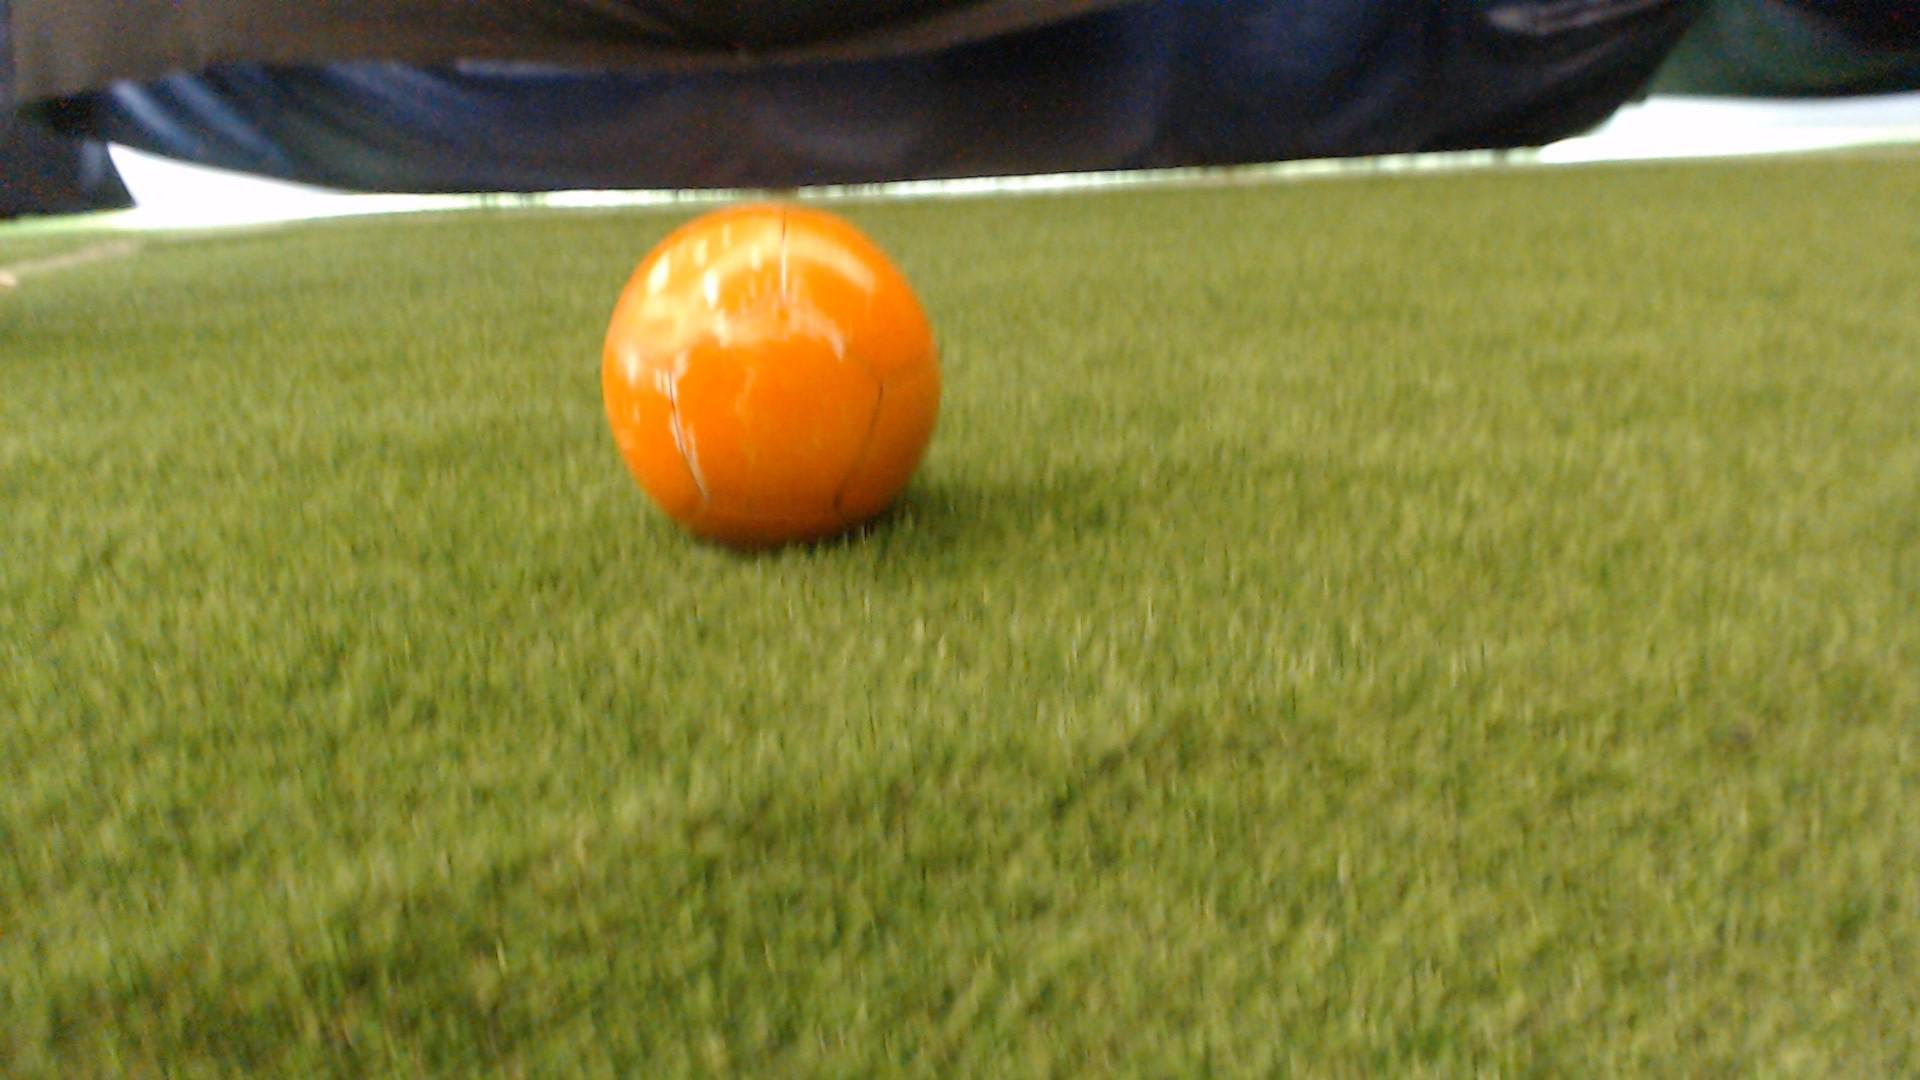bola: (588, 182, 959, 578)
